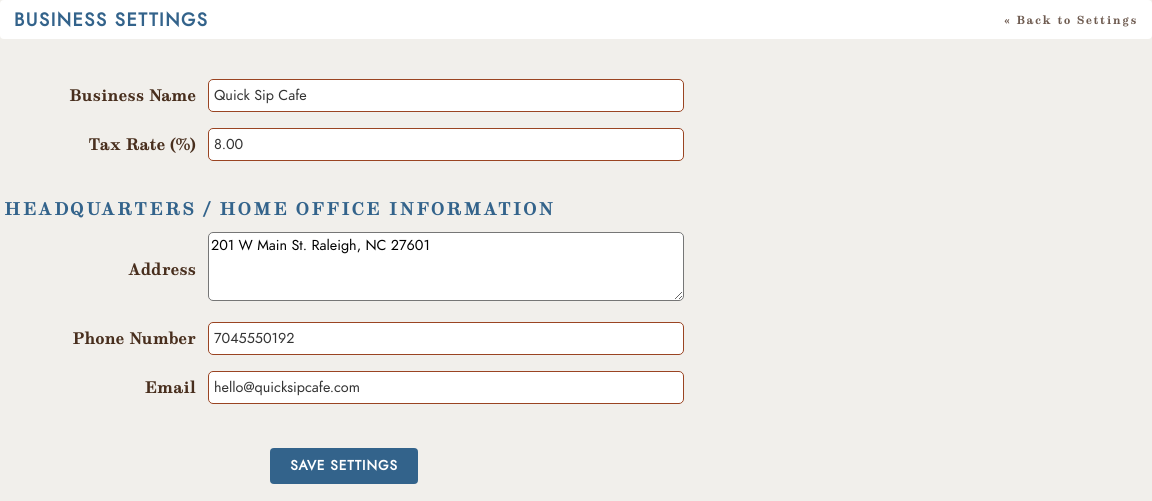
Test case: AdminBusinessSettings › shows error message when save fails
This screenshot has width=1152, height=501.
Replace the text in the field labelled "Phone Number" with "9195551234": [446, 338] box x1=208 y1=322 x2=684 y2=355
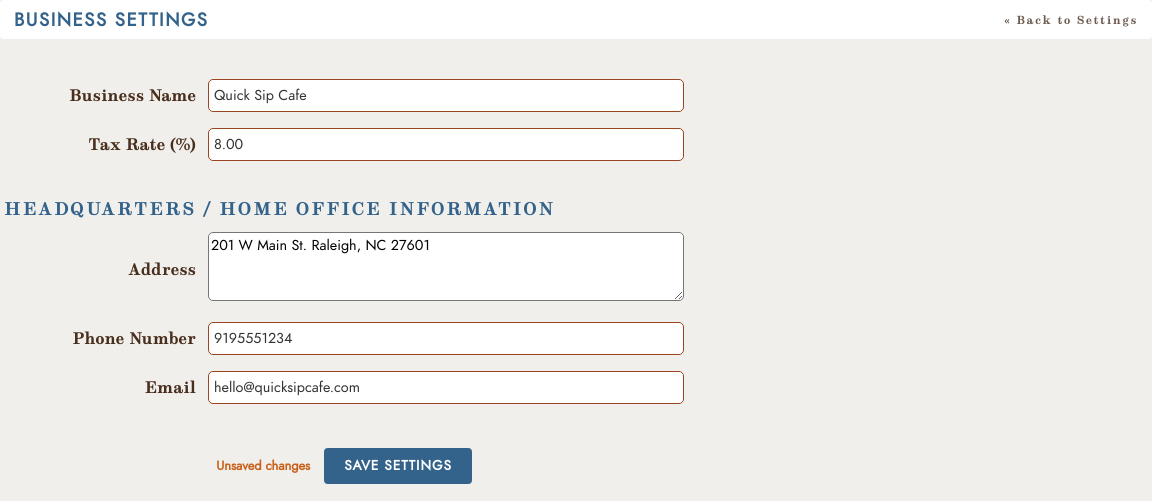
Click the button "Save Settings": [398, 466] box x1=324 y1=448 x2=472 y2=484
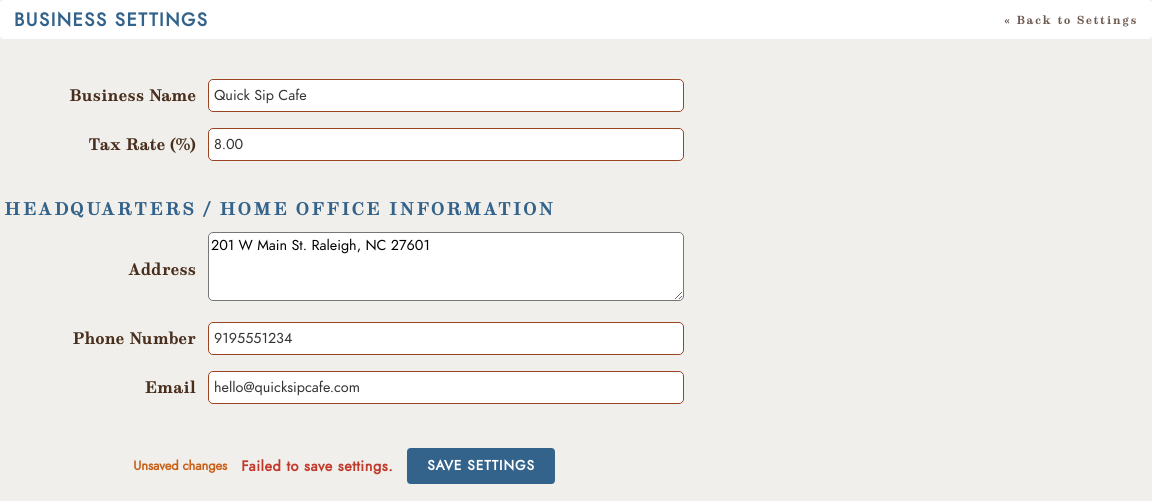
Expected: the text "Failed to save settings." is shown, x1=241 y1=456 x2=393 y2=476
